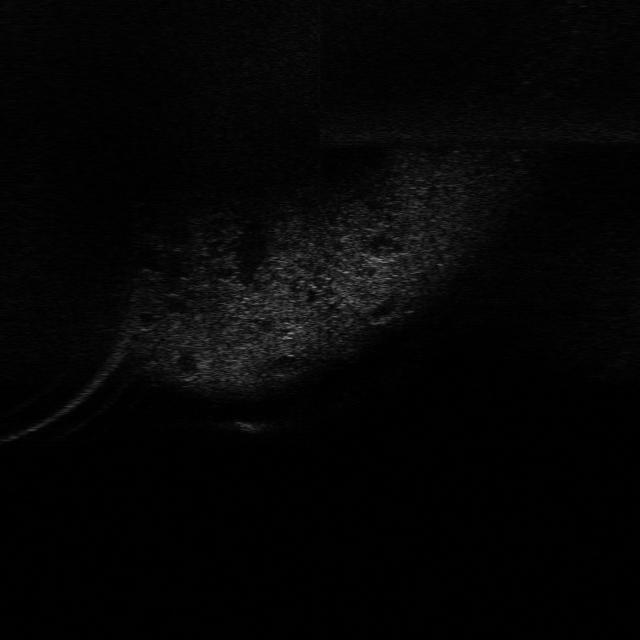cube: (227, 415, 282, 435)
